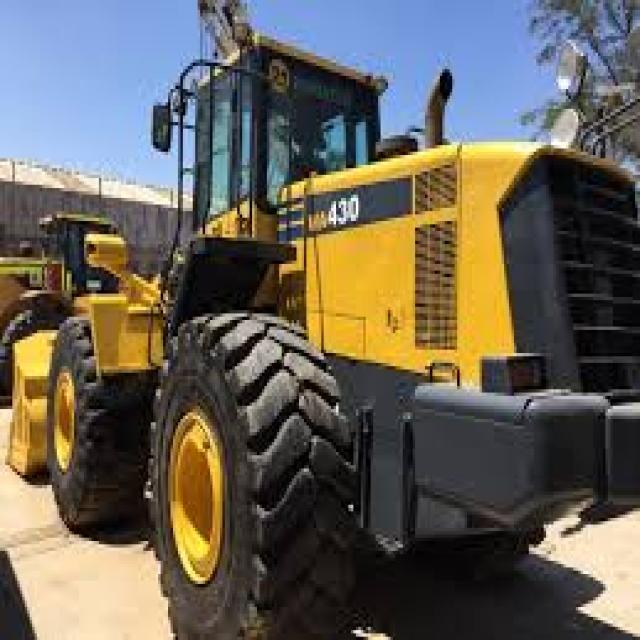buldozerpayloadergrader: (2, 22, 640, 636)
